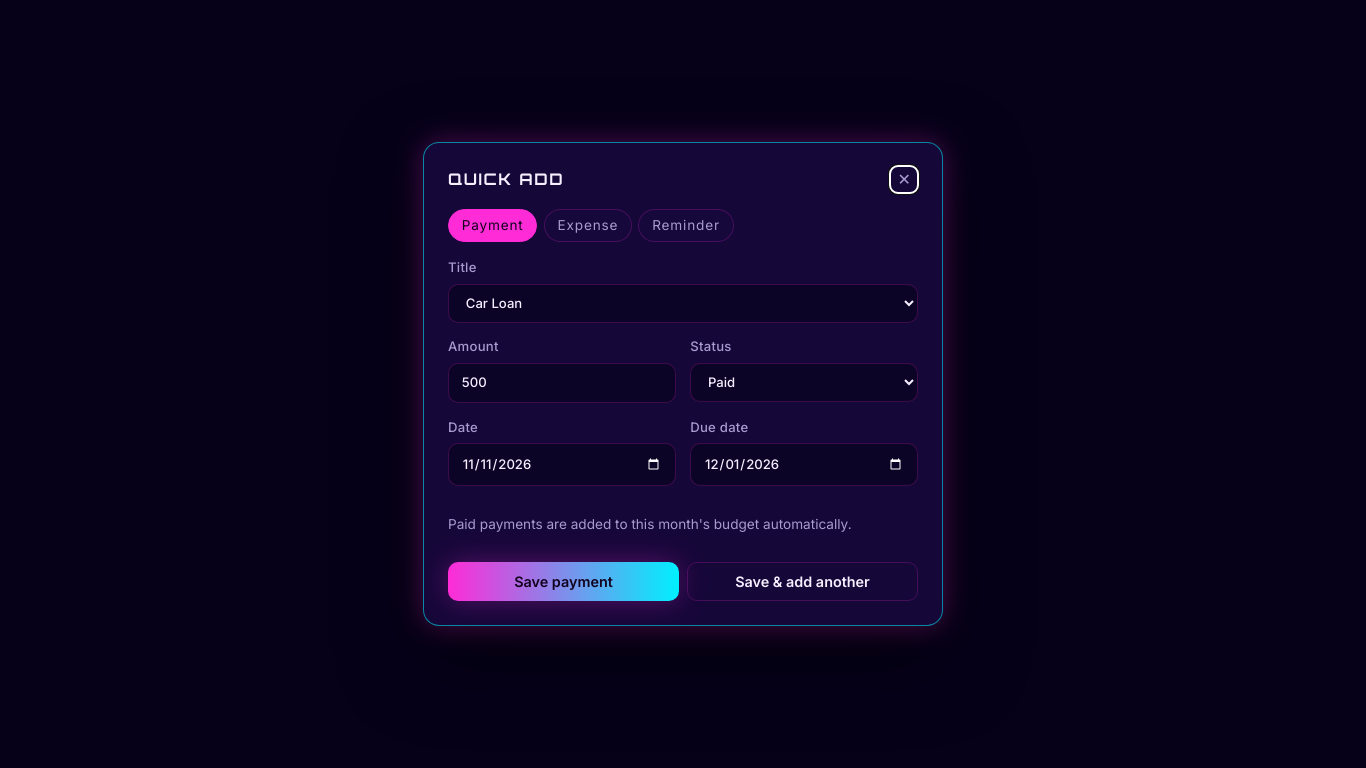
Test: QuickAddDialog › shows a refusal from the server and keeps the form open
Click the button "Expense" at (588, 226), box [544,209,632,242]
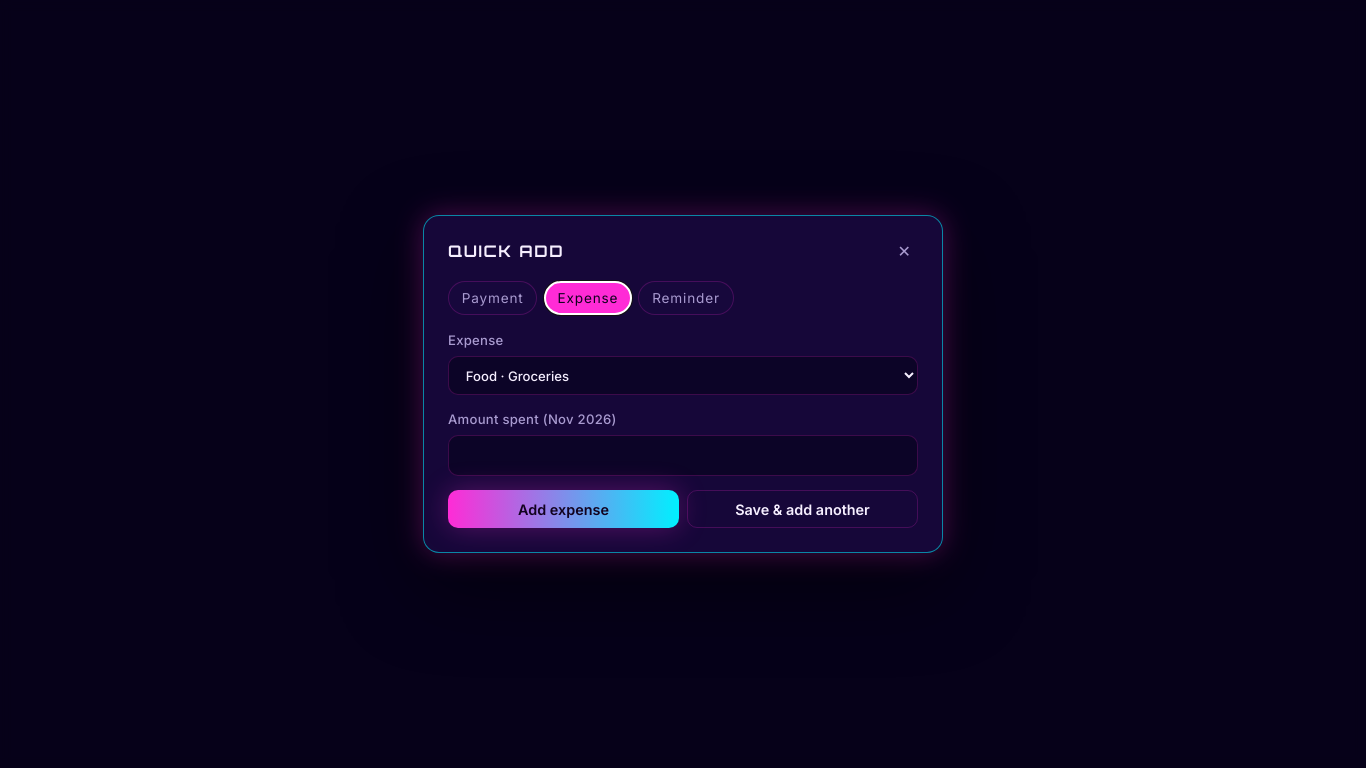
Type "9999" into the number field labelled "Amount spent (Nov 2026)" at (683, 455), box [448,435,918,476]
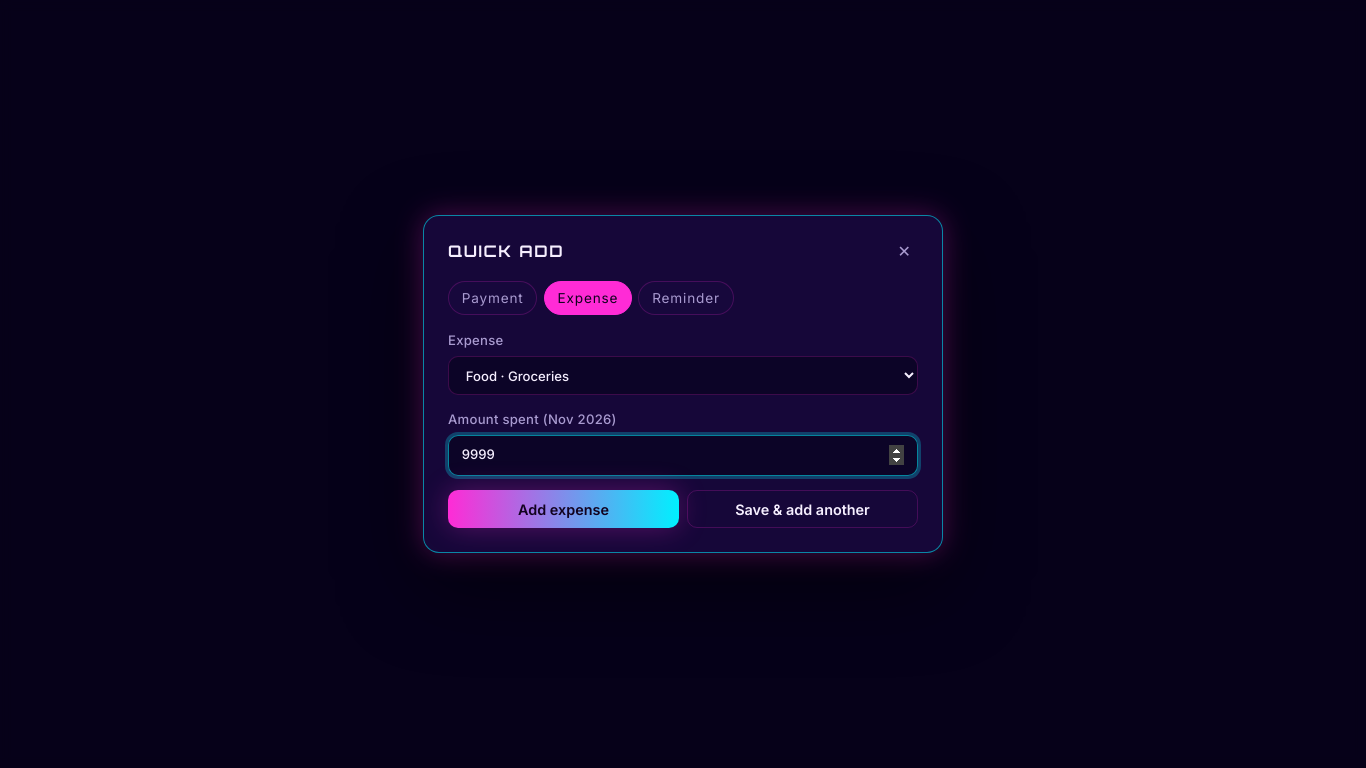
Click the button "Add expense" at (564, 509), box [448,490,679,528]
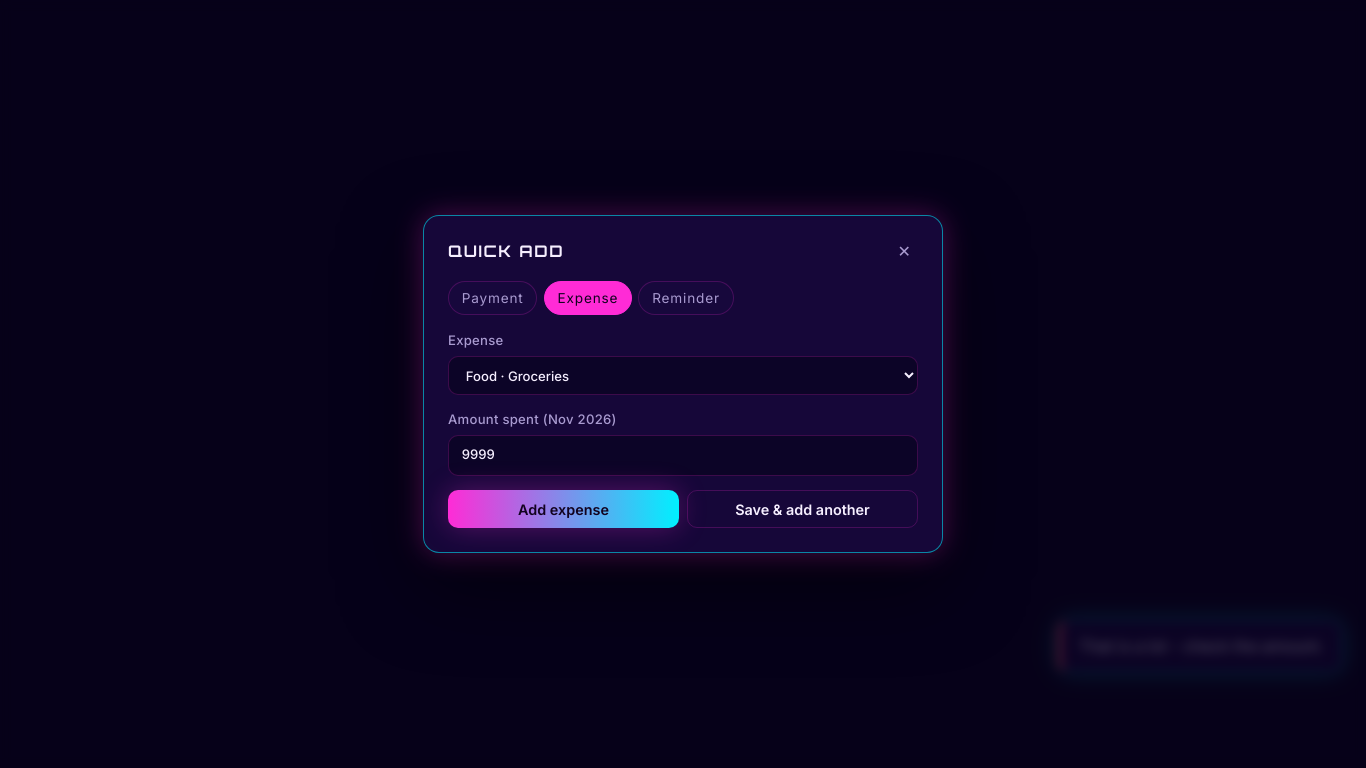
Expected: the text "That is a lot - check the amount." is shown, [1058,620,1342,672]
